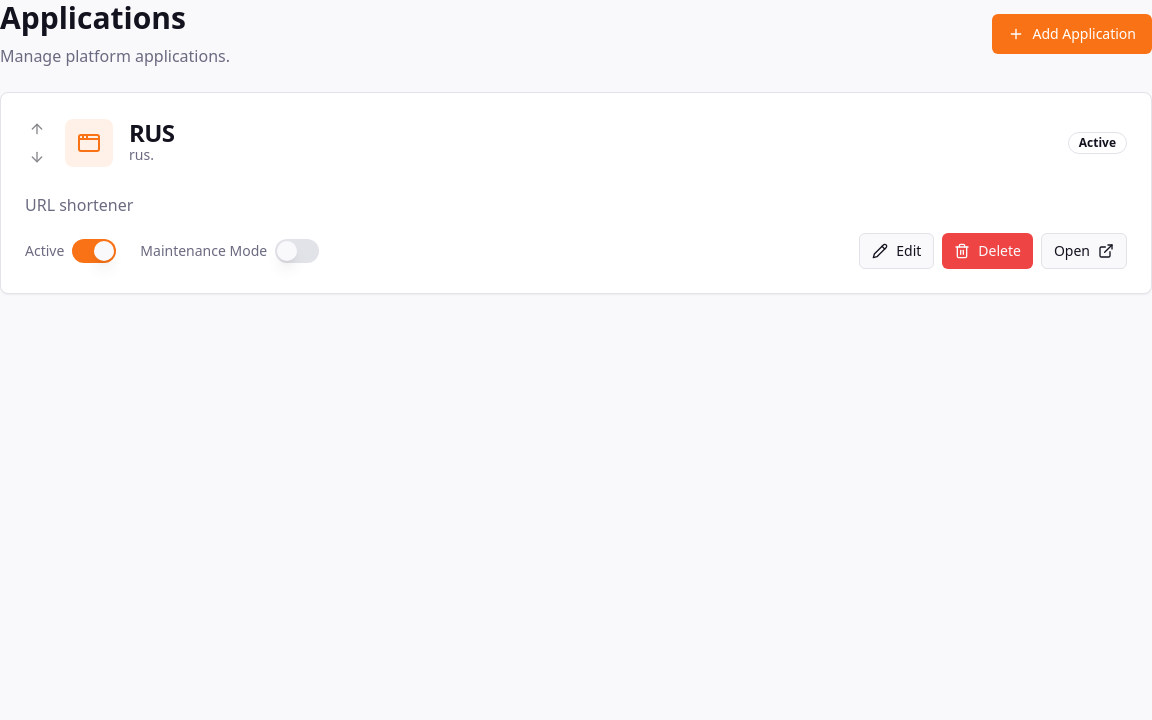
Test: AdminApplicationsPage › opens edit dialog when edit button clicked
This screenshot has width=1152, height=720.
Click the button "Edit" at (897, 251), box top-left (859, 233), bottom-right (934, 269)
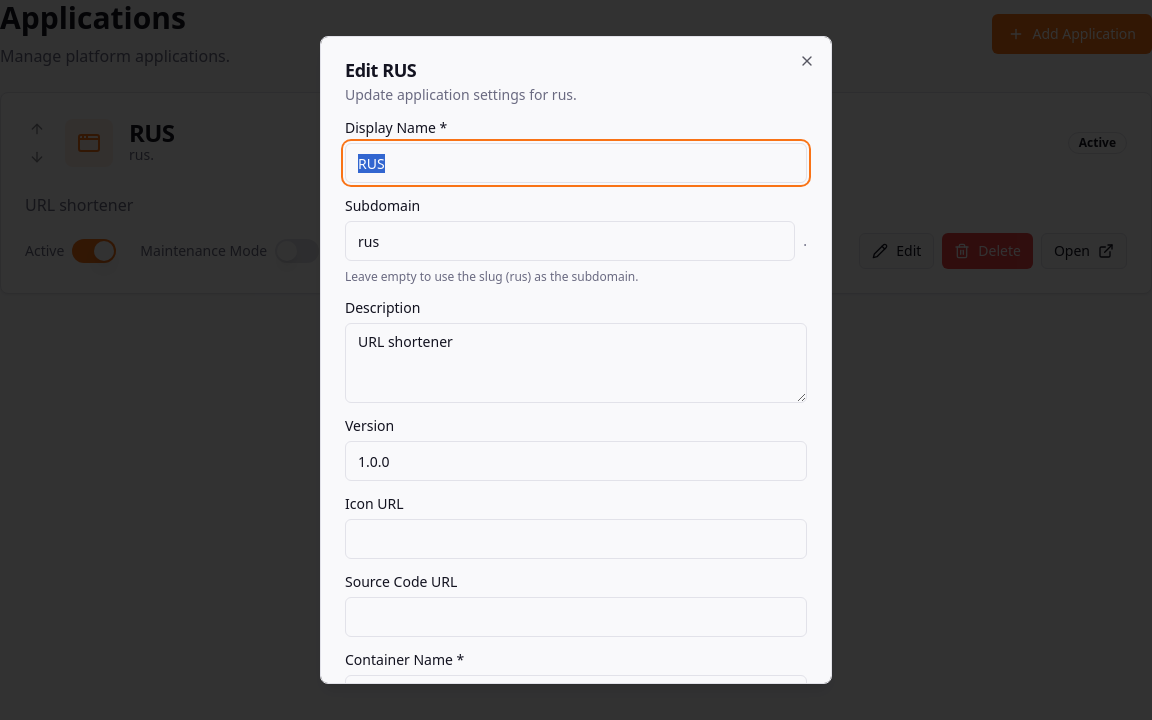
Check: the heading "Edit RUS" is shown, box top-left (345, 58), bottom-right (416, 82)
